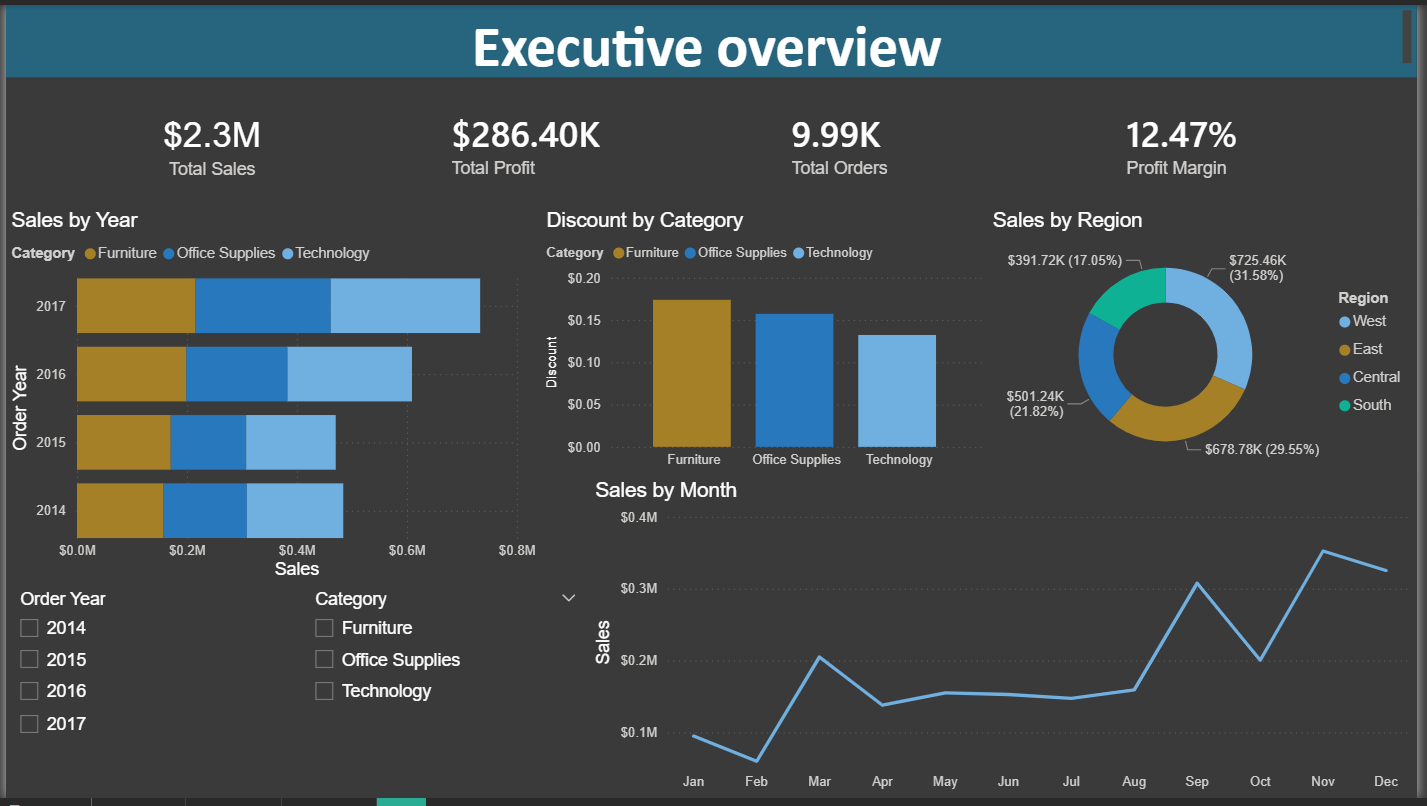

This screenshot's page, from the dashboard's own definition file:
{"tool":"powerbi","page":{"name":"Page 1","canvas":[1280,720],"ordinal":0},"visuals":[{"type":"card","title":"Total Sales","fields":{"Values":["Sum(Sheet1.Sales)"]},"box":[0,65.9,374.6,119.4],"z":0},{"type":"cardVisual","fields":{"Data":["Sum(Sheet1.Profit)"]},"box":[374.6,65.9,308.7,119.4],"z":1},{"type":"cardVisual","fields":{"Data":["Count(Sheet1.Row ID)"]},"box":[683.4,64.5,303.3,120.8],"z":2},{"type":"cardVisual","fields":{"Data":["Sheet1.Profit Margin"]},"box":[986.6,64.5,293.7,120.8],"z":3},{"type":"textbox","box":[0,0,1280.3,65.9],"z":4},{"type":"barChart","title":"Sales by Year","fields":{"Category":["Sheet1.Order Year"],"Y":["Sum(Sheet1.Sales)"],"Series":["Sheet1.Category"]},"box":[0,185.2,485.8,340.3],"z":5},{"type":"lineChart","title":"Sales by Month","fields":{"Category":["Sheet1.Order Month"],"Y":["Sum(Sheet1.Sales)"]},"box":[529.7,429.5,750.6,290.9],"z":6},{"type":"donutChart","title":"Sales by Region","fields":{"Y":["Sum(Sheet1.Sales)"],"Category":["Sheet1.Region"]},"box":[890.6,185.2,389.7,244.3],"z":7},{"type":"slicer","fields":{"Values":["Sheet1.Category"]},"box":[267.6,525.6,262.1,194.9],"z":8},{"type":"slicer","fields":{"Values":["Sheet1.Order Year"]},"box":[0,525.6,267.6,194.9],"z":9},{"type":"columnChart","title":"Discount by Category","fields":{"Category":["Sheet1.Category"],"Series":["Sheet1.Category"],"Y":["Avg(Sheet1.Discount)"]},"box":[485.8,185.2,404.8,244.3],"z":10}]}

Visuals, with their boxes in screenshot pixels (x1, y1, x2, y2), scaled from the page's 1280x720 canvas onto the 1427x806 screenshot:
"Total Sales" card: (0, 74, 418, 207)
cardVisual - Sum(Sheet1.Profit): (418, 74, 762, 207)
cardVisual - Count(Sheet1.Row ID): (762, 72, 1100, 207)
cardVisual - Sheet1.Profit Margin: (1100, 72, 1426, 207)
textbox: (0, 0, 1426, 74)
"Sales by Year" barChart: (0, 207, 542, 588)
"Sales by Month" lineChart: (591, 481, 1426, 805)
"Sales by Region" donutChart: (993, 207, 1426, 481)
slicer - Sheet1.Category: (298, 588, 591, 805)
slicer - Sheet1.Order Year: (0, 588, 298, 805)
"Discount by Category" columnChart: (542, 207, 993, 481)
